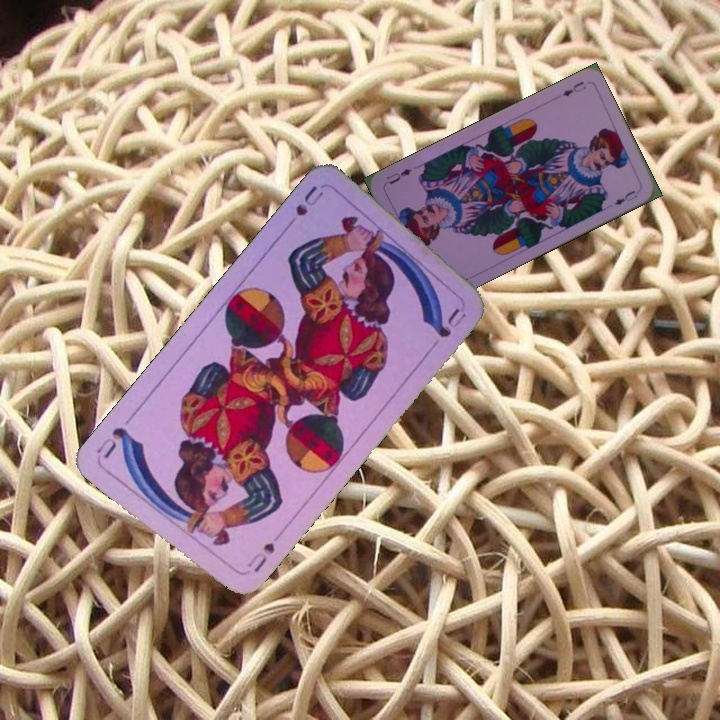EU: (558, 77, 589, 99)
SU: (239, 538, 278, 578), (291, 181, 326, 219)
